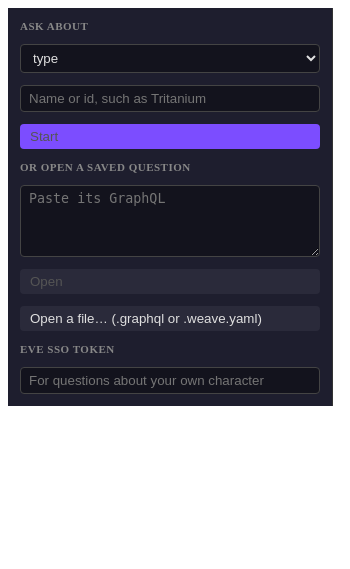
Test: DraftPanel › shows the fabric's refusal and keeps the question as it was
Type "Tritanium" into the field labelled "Name or id". click: (170, 98)
box: [20,85,320,112]
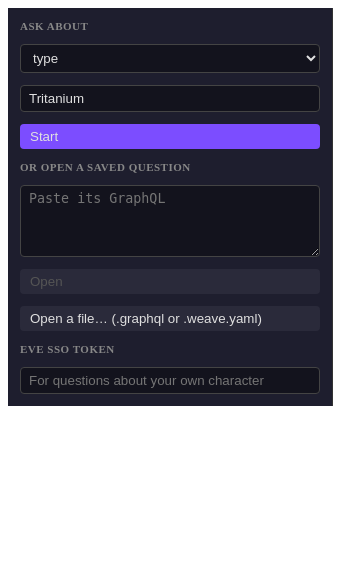
Click the button "Start". click: (44, 136)
box: [20,124,320,149]
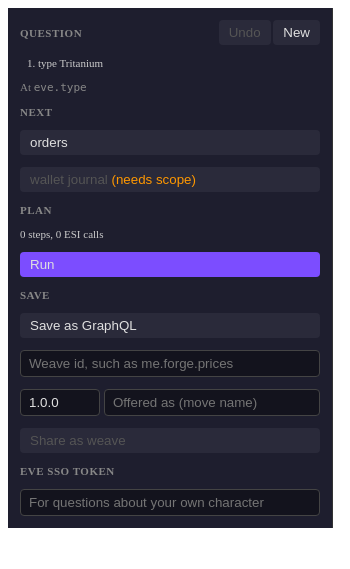
Click the button "orders". click: (49, 142)
box: [20,130,320,155]
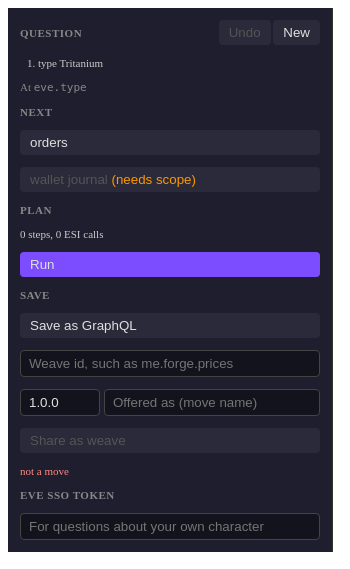
expect the message reads "not a move": met, box [20,465,69,477]
